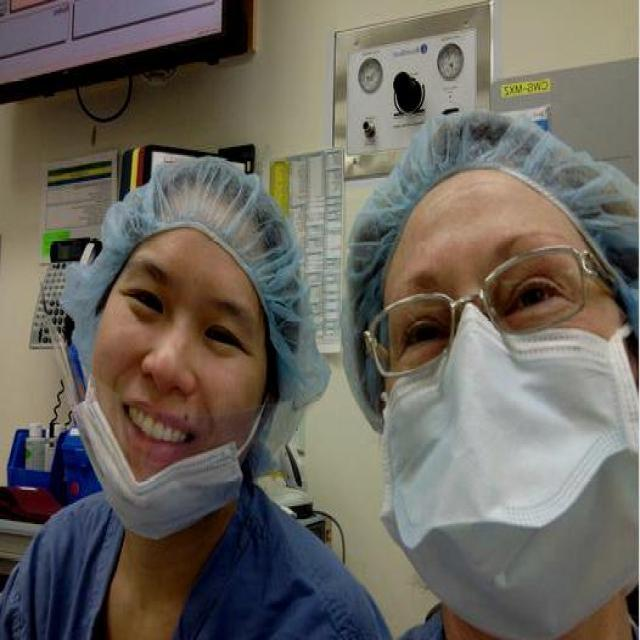hairnet: (37, 156, 316, 564)
